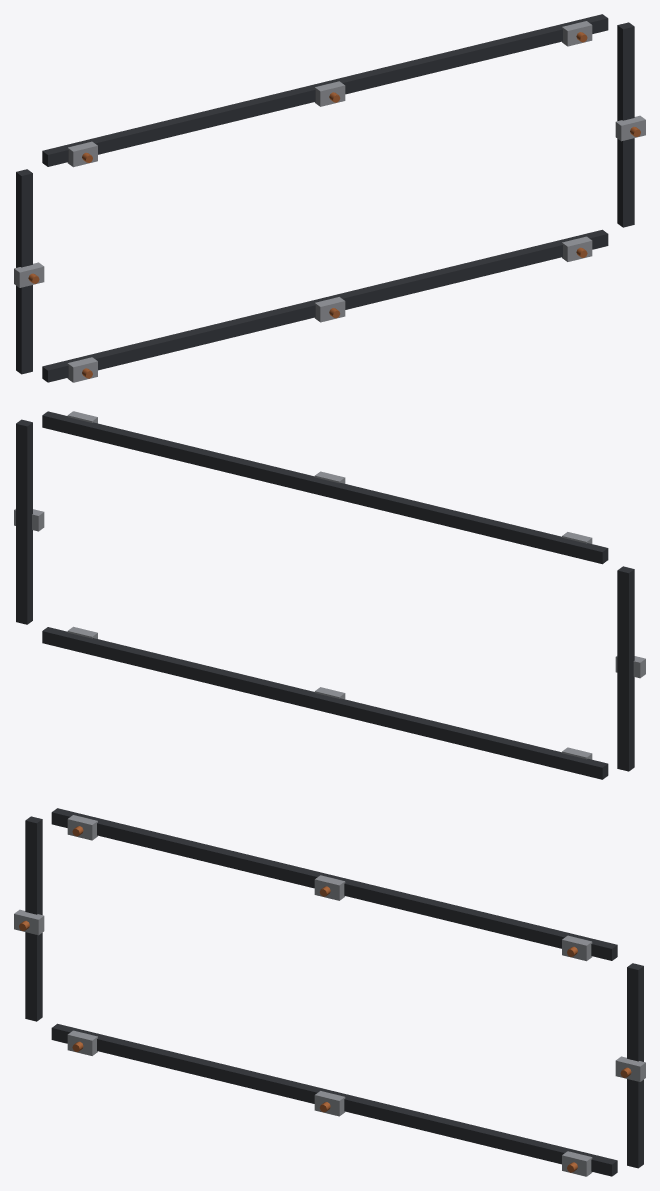
File: ec2_separation.obj
3 views of the same model, one above another, from view 1: azimuth 30°, elevation 25°; view 2: azimuth 150°, elevation 25°; view 3: azimuth 330°, elevation 25° (orthographic).
Visible parts, largest first — view 1: ec2_separation; view 2: ec2_separation; view 3: ec2_separation.
Boxes of the visible parts, x1=… form: ec2_separation: x1=14, y1=14, x2=645, y2=382; ec2_separation: x1=14, y1=411, x2=645, y2=779; ec2_separation: x1=14, y1=808, x2=645, y2=1176.
Bounding box in the file's own units: 7.6 × 2.68 × 0.3.
